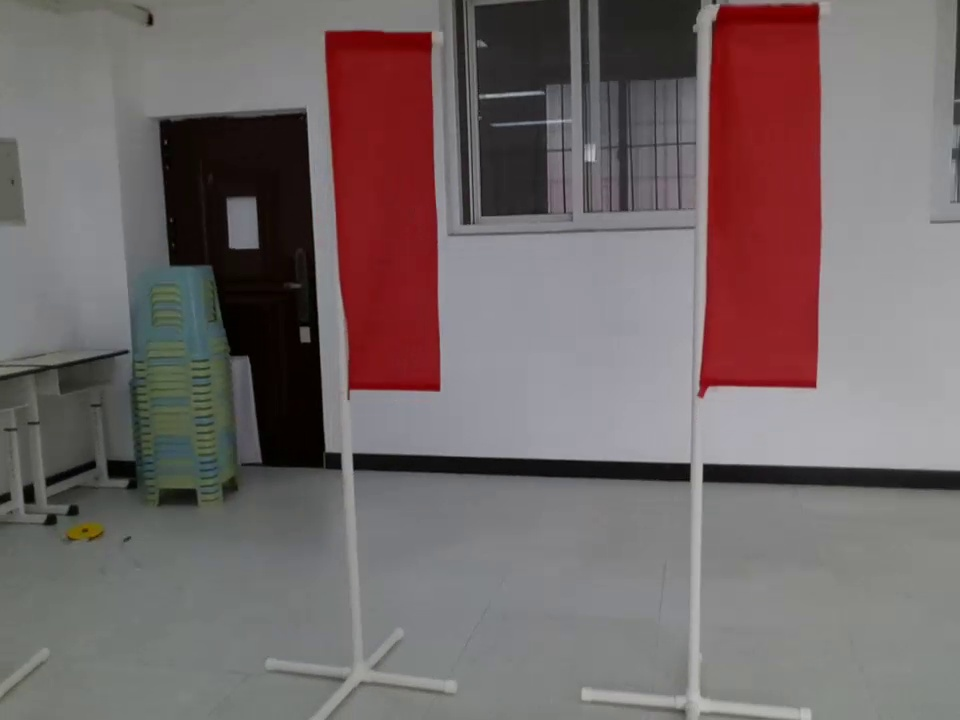qi: (681, 1, 837, 400), (305, 17, 463, 406)
